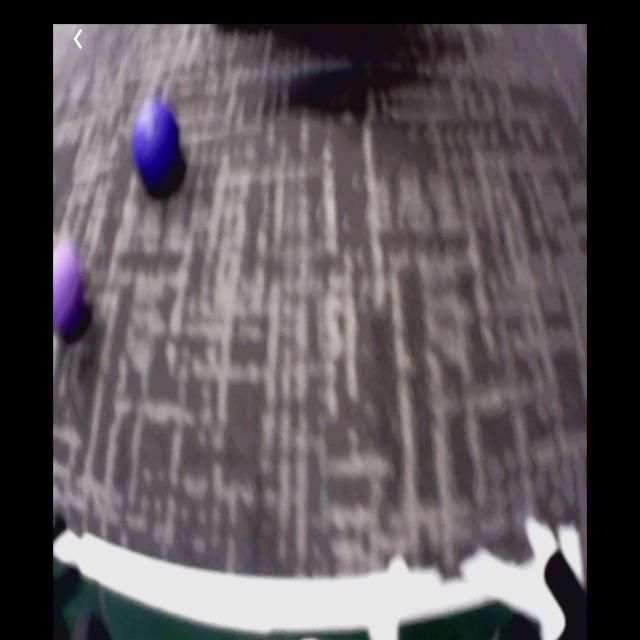ball: (133, 104, 181, 183), (54, 249, 85, 333)
